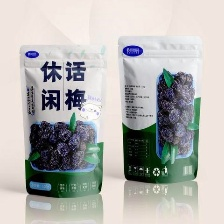snack: (14, 38, 110, 202), (112, 28, 206, 189)
